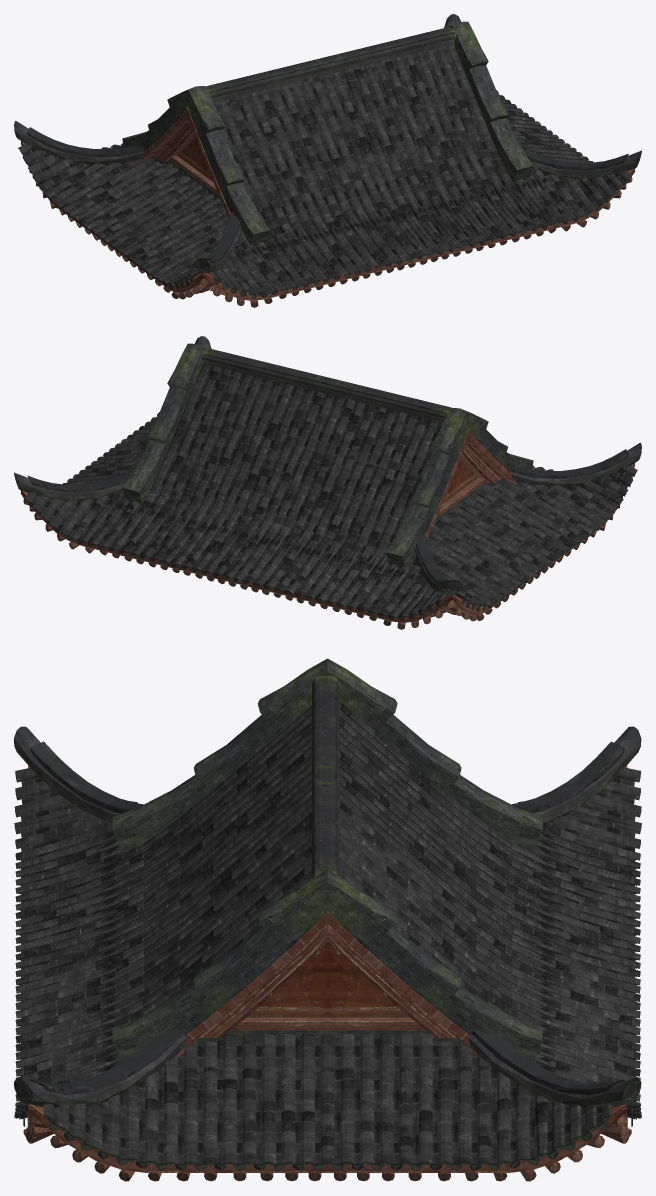
Rendered from WaDing_2.fbx.
3 renders of one model, top to bottom at view 1: azimuth 30°, elevation 25°; view 2: azimuth 150°, elevation 25°; view 3: azimuth 270°, elevation 25°, orthographic. The views are drawn at different scales.
Parts seen in each view (by area): view 1: 3D_WaDing2.mo; view 2: 3D_WaDing2.mo; view 3: 3D_WaDing2.mo.
Part boxes in pixels (box(x1,y1,x2,y2)): 3D_WaDing2.mo: box(14, 14, 641, 307); 3D_WaDing2.mo: box(14, 336, 641, 629); 3D_WaDing2.mo: box(14, 658, 641, 1181).
Size of the model in its own units: 251 by 79.32 by 186.
2 materials, 2 textured.
